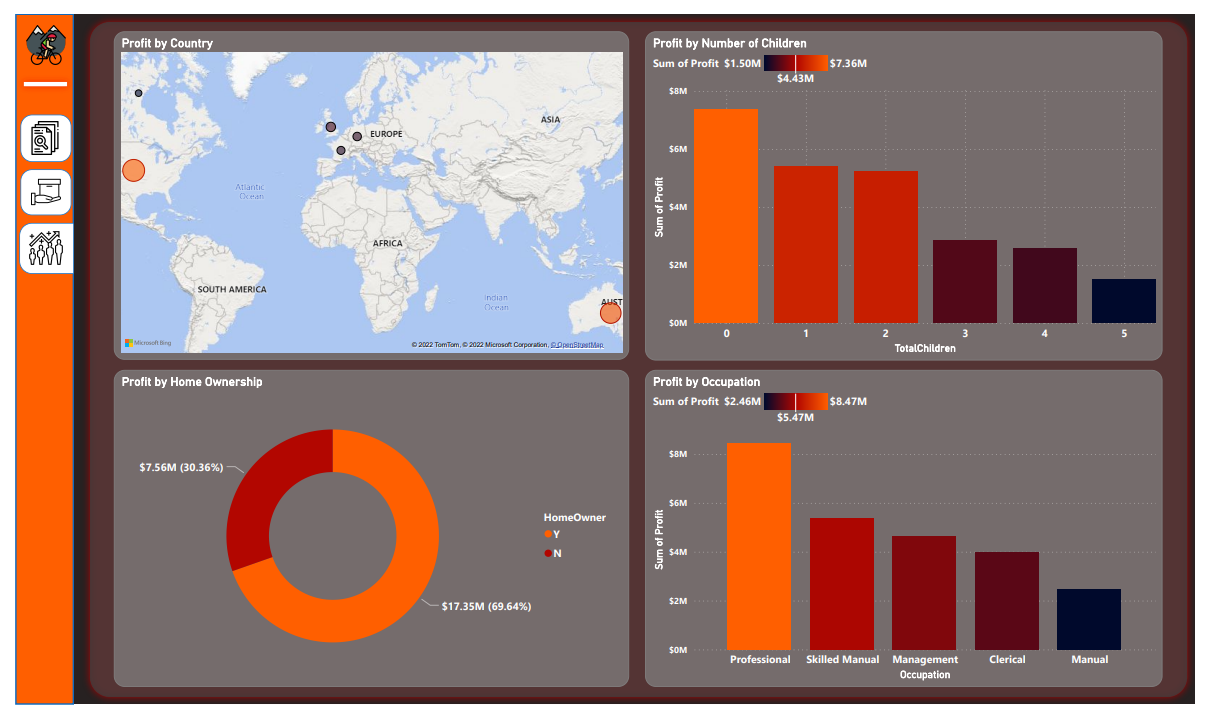

The dashboard page shown, as its layout file describes it:
{"tool":"powerbi","page":{"name":"Demographics","canvas":[1640,960],"ordinal":2},"visuals":[{"type":"shape","box":[91.7,0,1548.5,960],"z":0},{"type":"shape","box":[6.1,139.9,70.8,65.9],"z":0,"group":"g1"},{"type":"shape","box":[5.6,215.5,70.8,64.3],"z":0,"group":"g3"},{"type":"shape","box":[5.4,290.7,75.6,70.8],"z":0,"group":"g2"},{"type":"shape","box":[0,0,80.4,960],"z":1000},{"type":"image","box":[12.5,144.7,56.3,56.3],"z":1000,"group":"g1"},{"type":"image","box":[12,221.9,57.9,51.5],"z":1000,"group":"g3"},{"type":"image","box":[13.4,295.5,59.5,61.1],"z":1000,"group":"g2"},{"type":"clusteredColumnChart","title":"Profit by Occupation","fields":{"Y":["Sum(AdventureWorks_Total_Sales.OrderCost)"],"Category":["AdventureWorks_Customers.Occupation"]},"box":[866.7,75.6,553.2,405.2],"z":2000},{"type":"donutChart","title":"Profit by Home Ownership","fields":{"Category":["AdventureWorks_Customers.HomeOwner"],"Y":["Sum(AdventureWorks_Total_Sales.OrderCost)"]},"box":[136.7,495.3,554.8,440.6],"z":3000},{"type":"clusteredColumnChart","title":"Profit by Number of Children","fields":{"Category":["AdventureWorks_Customers.TotalChildren"],"Y":["Sum(AdventureWorks_Total_Sales.OrderCost)"]},"box":[723.6,495.3,479.2,440.6],"z":4000},{"type":"map","title":"Profit by Country","fields":{"Category":["AdventureWorks_Territories.Country"],"Size":["Sum(AdventureWorks_Total_Sales.OrderCost)"]},"box":[136.7,75.6,717.2,405.2],"z":5000},{"type":"group","id":"g1","title":"Group 1","box":[6.1,139.9,71.4,66],"z":6000},{"type":"group","id":"g2","title":"Group 2","box":[5.4,290.7,76.7,71.4],"z":7000},{"type":"shape","box":[3.2,75.6,75.6,41.8],"z":8000},{"type":"image","box":[6.4,11.3,70.8,64.3],"z":9000},{"type":"group","id":"g3","title":"Group 3","box":[5.6,215.5,70.8,64.3],"z":10000},{"type":"textbox","box":[139.9,4.8,495.3,75.6],"z":11000},{"type":"donutChart","title":"Profit by Home Ownership","fields":{"Y":["_MEASURES.Total_Profit"],"Category":["AdventureWorks_Customers.Gender"]},"box":[1215.7,495.3,389.1,440.6],"z":12000},{"type":"slicer","fields":{"Values":["AdventureWorks_Calendar.Date.Variation.Date Hierarchy.Year"]},"box":[1452.1,59.5,165.6,114.2],"z":13000},{"type":"slicer","fields":{"Values":["AdventureWorks_Product_Categories.CategoryName"]},"box":[1452.1,186.5,165.6,170.5],"z":14000},{"type":"slicer","fields":{"Values":["AdventureWorks_Customers.Gender"]},"box":[1452.1,361.8,165.6,125.4],"z":15000}]}

Visuals, with their boxes on the page's 1640x960 design canvas (x1, y1, x2, y2). These are canvas units, not pixel positions in the 1208x721 screenshot, which may show the page scaled, cropped or inside an application window:
shape: bbox=(92, 0, 1640, 960)
shape: bbox=(6, 140, 77, 206)
shape: bbox=(6, 216, 76, 280)
shape: bbox=(5, 291, 81, 362)
shape: bbox=(0, 0, 80, 960)
image: bbox=(12, 145, 69, 201)
image: bbox=(12, 222, 70, 273)
image: bbox=(13, 296, 73, 357)
"Profit by Occupation" clusteredColumnChart: bbox=(867, 76, 1420, 481)
"Profit by Home Ownership" donutChart: bbox=(137, 495, 692, 936)
"Profit by Number of Children" clusteredColumnChart: bbox=(724, 495, 1203, 936)
"Profit by Country" map: bbox=(137, 76, 854, 481)
"Group 1" group: bbox=(6, 140, 78, 206)
"Group 2" group: bbox=(5, 291, 82, 362)
shape: bbox=(3, 76, 79, 117)
image: bbox=(6, 11, 77, 76)
"Group 3" group: bbox=(6, 216, 76, 280)
textbox: bbox=(140, 5, 635, 80)
"Profit by Home Ownership" donutChart: bbox=(1216, 495, 1605, 936)
slicer - AdventureWorks_Calendar.Date.Variation.Date Hierarchy.Year: bbox=(1452, 60, 1618, 174)
slicer - AdventureWorks_Product_Categories.CategoryName: bbox=(1452, 186, 1618, 357)
slicer - AdventureWorks_Customers.Gender: bbox=(1452, 362, 1618, 487)
